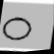no answer: (0, 9, 37, 45)
